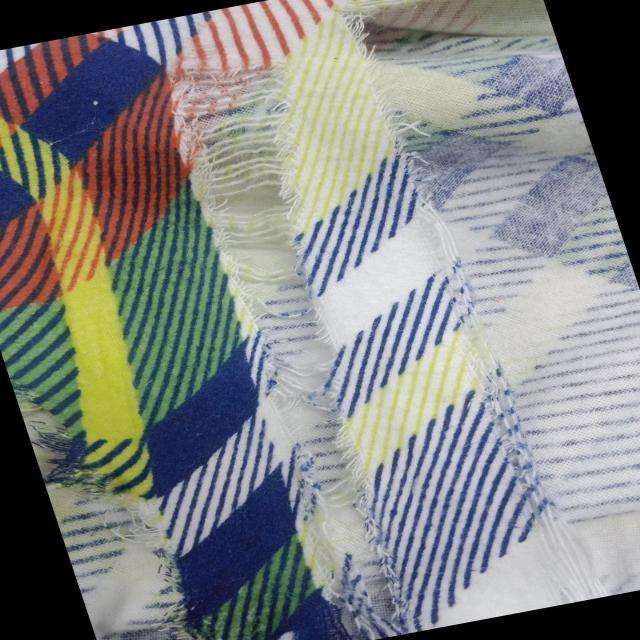cut: (127, 40, 448, 640), (332, 0, 640, 367), (25, 367, 260, 640)
